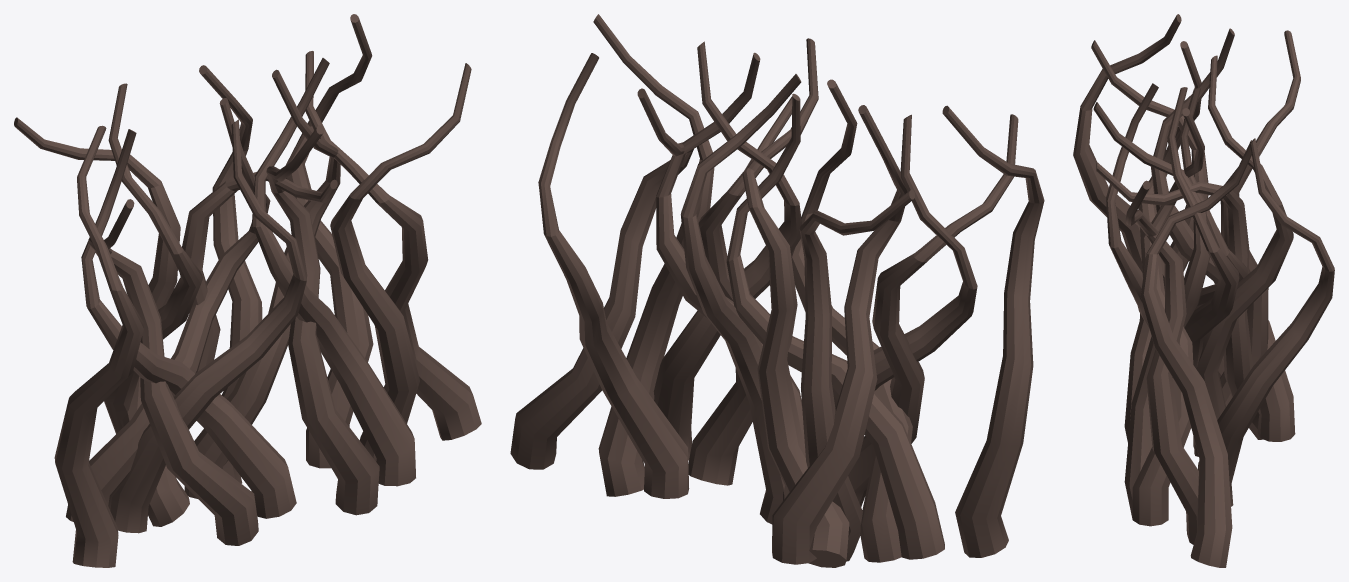
Rendered from Mesh_Vines.fbx.
3 renders of one model, left to right at view 1: azimuth 30°, elevation 25°; view 2: azimuth 150°, elevation 25°; view 3: azimuth 270°, elevation 25°, orthographic. The views are drawn at different scales.
Parts seen in each view (by area): view 1: pCylinder16; view 2: pCylinder16; view 3: pCylinder16.
Boxes of the visible parts, bbox=[...] form: pCylinder16: bbox=[14, 14, 481, 567]; pCylinder16: bbox=[510, 14, 1044, 567]; pCylinder16: bbox=[1073, 14, 1334, 567].
Size of the model in its own units: 181 by 172 by 98.24.
